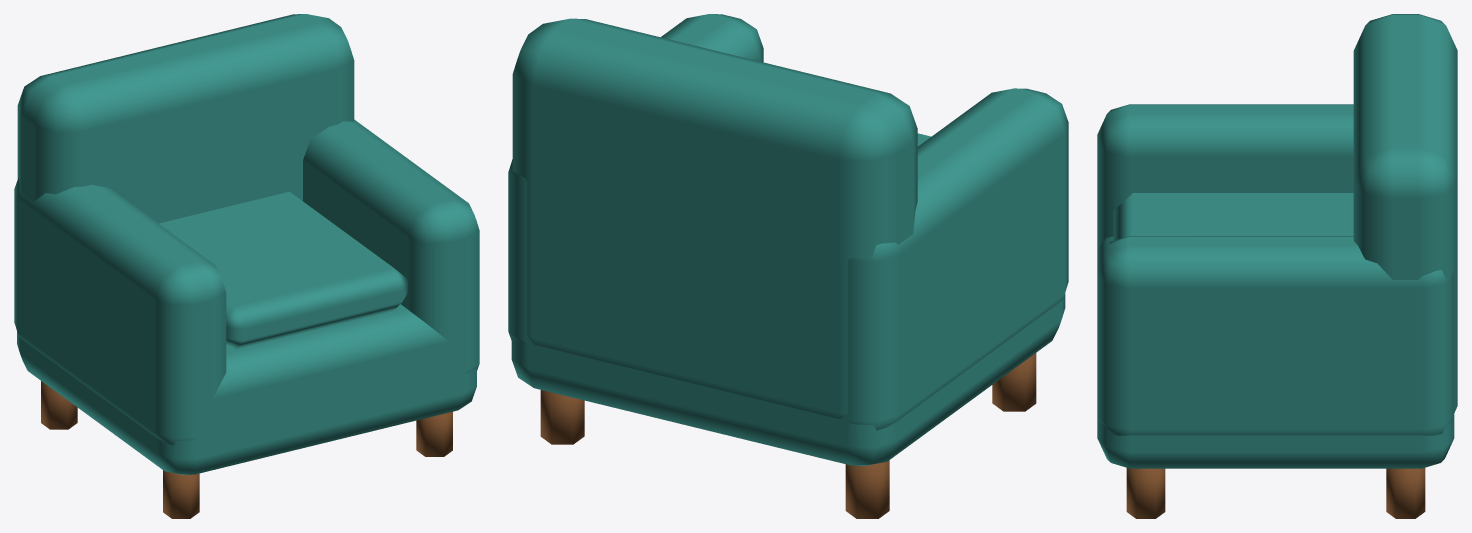
The model's file is armchair.glb.
The picture shows the model from 3 angles, left to right: view 1: azimuth 30°, elevation 25°; view 2: azimuth 150°, elevation 25°; view 3: azimuth 270°, elevation 25°; orthographic projection. The views are drawn at different scales.
Visible parts, largest first — view 1: armchair; view 2: armchair; view 3: armchair.
Boxes of the visible parts, x1,y1,x2,y2 form: armchair: (14, 14, 479, 518); armchair: (508, 14, 1068, 518); armchair: (1097, 14, 1457, 518).
Size of the model in its own units: 0.61 by 0.62 by 0.555.
